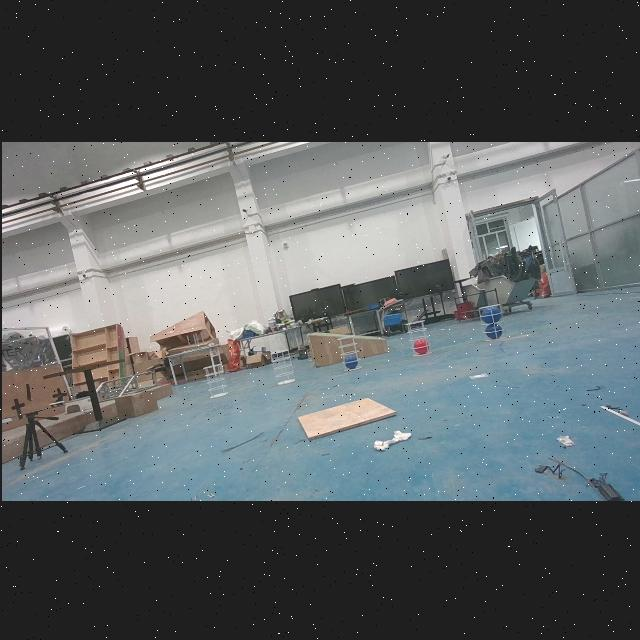B: (480, 306, 502, 322), (482, 322, 503, 338), (342, 354, 356, 368)
R: (412, 338, 428, 354)
S: (402, 317, 432, 357), (200, 359, 230, 398), (335, 332, 363, 373), (476, 303, 506, 341), (268, 345, 296, 385)
